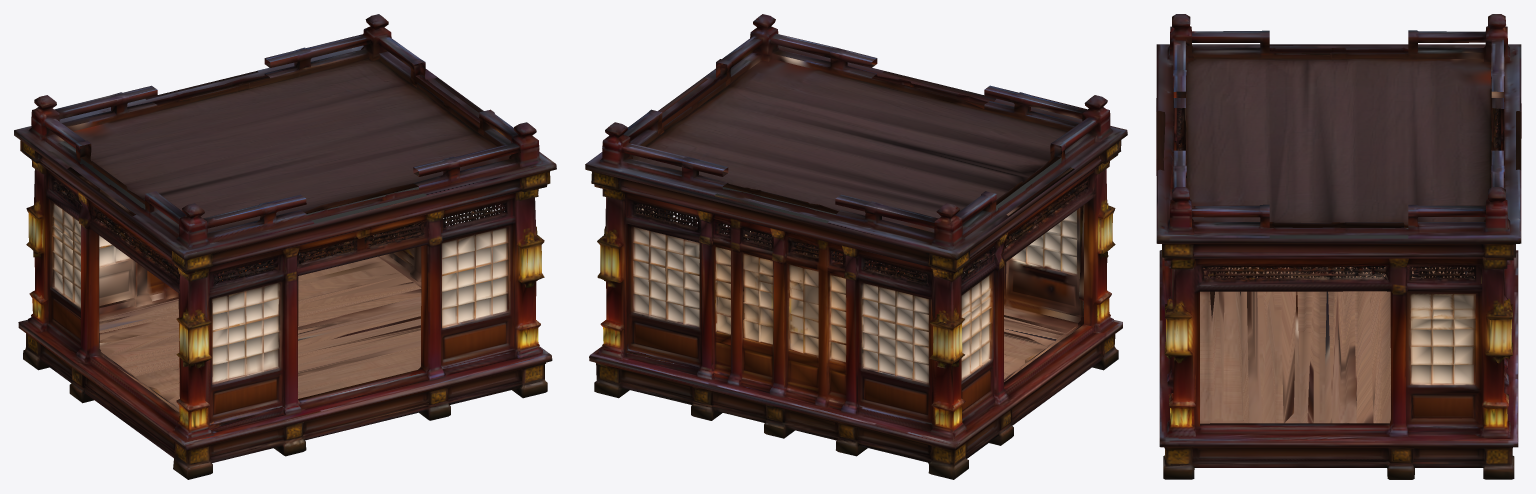
Rendered from CorrectedRoom_LOD0.fbx.
3 renders of one model, left to right at view 1: azimuth 30°, elevation 25°; view 2: azimuth 150°, elevation 25°; view 3: azimuth 270°, elevation 25°, orthographic. The views are drawn at different scales.
Visible parts, largest first — view 1: CorrectedRoom_LOD0; view 2: CorrectedRoom_LOD0; view 3: CorrectedRoom_LOD0.
Part boxes in pixels (box(x1,y1,x2,y2)): CorrectedRoom_LOD0: box(14, 14, 556, 479); CorrectedRoom_LOD0: box(585, 14, 1127, 479); CorrectedRoom_LOD0: box(1156, 14, 1521, 479).
Size of the model in its own units: 7.27 by 4.97 by 5.78.
Materials: 1 (1 with a texture image).
